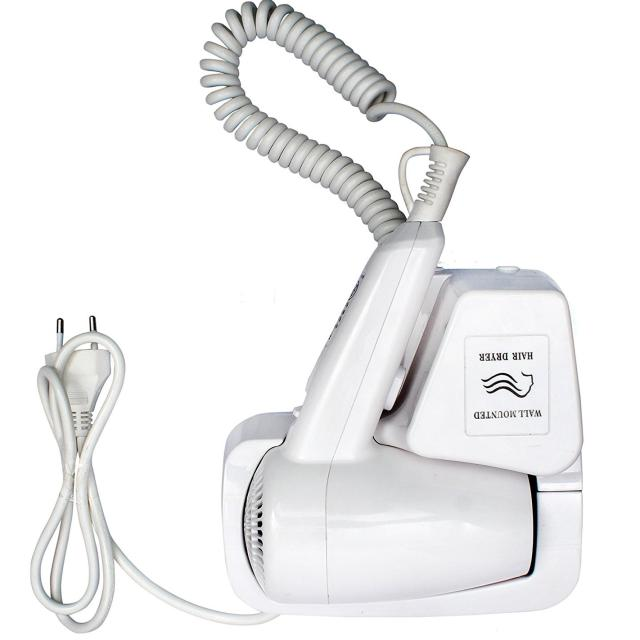dryer: (7, 0, 598, 633), (207, 236, 589, 624)
